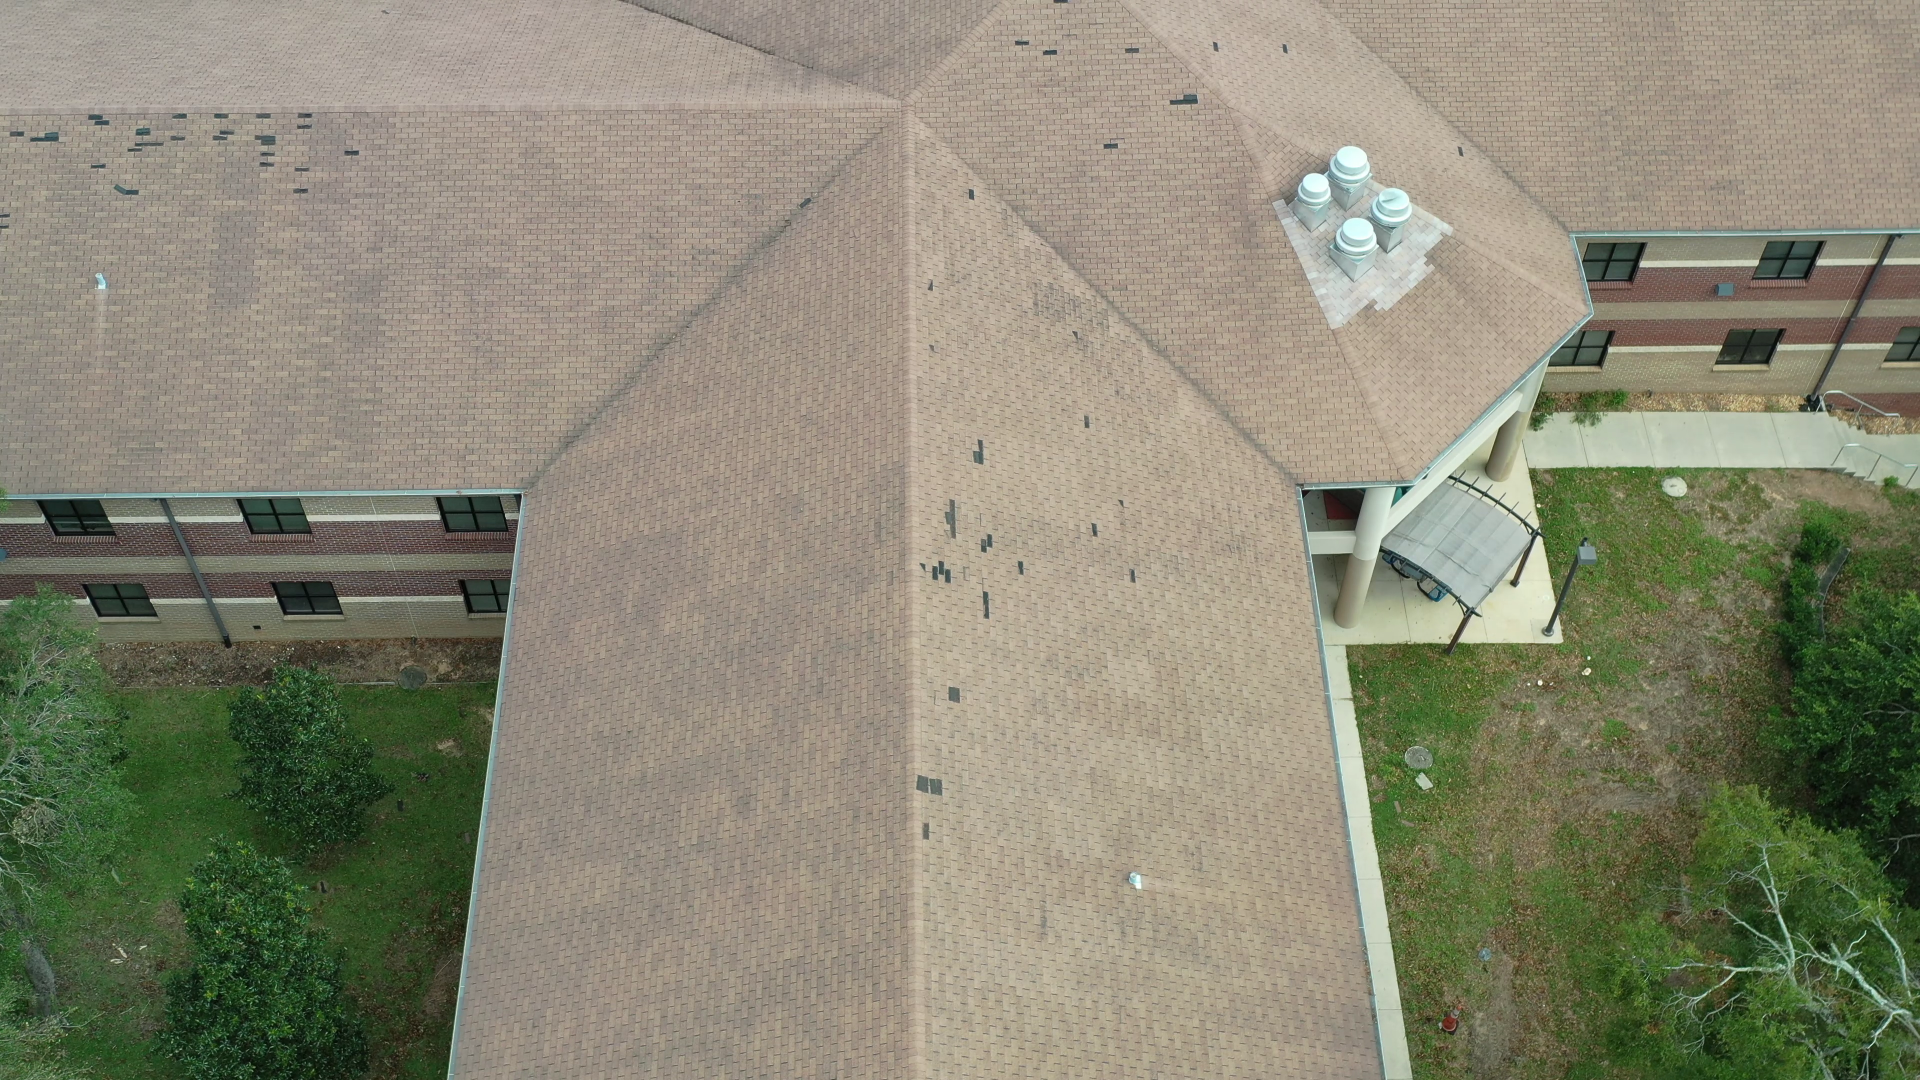Light: (8, 109, 361, 195), (919, 498, 1025, 620), (1091, 498, 1135, 584), (914, 773, 944, 841), (1013, 40, 1059, 55), (1167, 94, 1200, 105), (945, 684, 961, 704), (973, 439, 985, 465), (1102, 140, 1114, 158), (1122, 46, 1141, 55), (1083, 411, 1091, 430), (967, 187, 976, 202), (1211, 40, 1220, 53), (1280, 41, 1288, 55)
